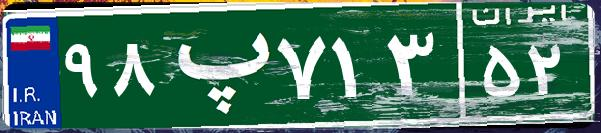1: (330, 28, 385, 110)
2: (525, 38, 570, 115)
3: (385, 28, 445, 110)
5: (475, 38, 525, 113)
7: (273, 28, 330, 110)
8: (110, 28, 158, 105)
9: (57, 26, 110, 107)
پ: (158, 15, 273, 115)
